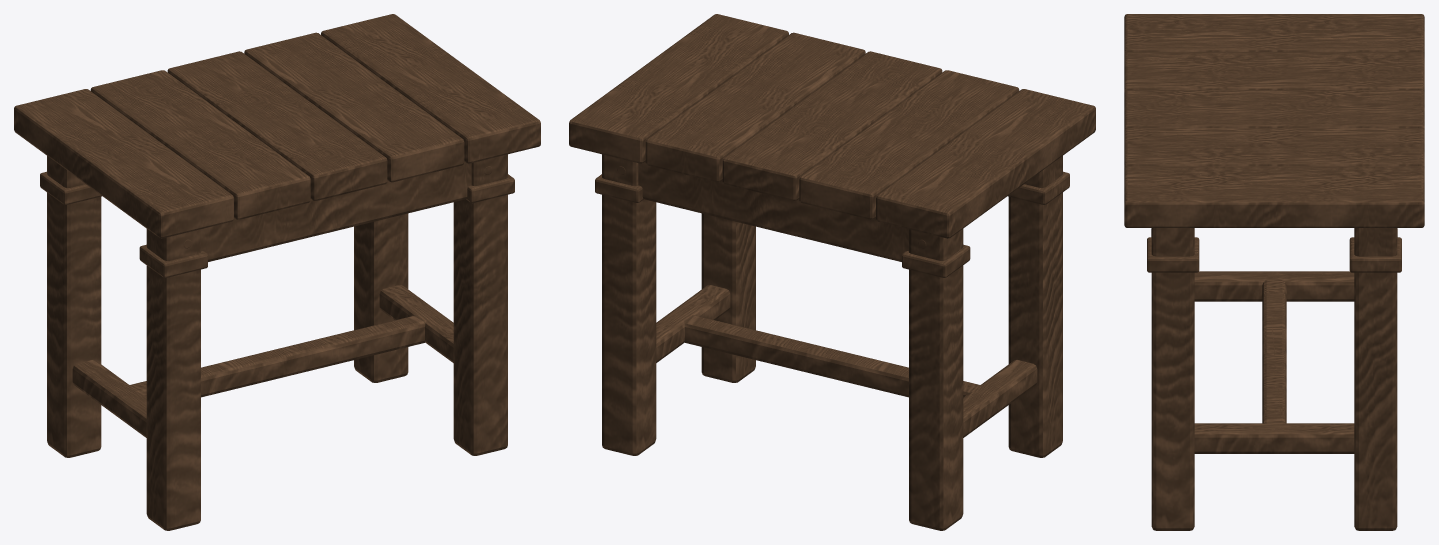
Rendered from ArchiveDesk.fbx.
3 renders of one model, left to right at view 1: azimuth 30°, elevation 25°; view 2: azimuth 150°, elevation 25°; view 3: azimuth 270°, elevation 25°, orthographic.
Parts seen in each view (by area): view 1: ArchiveDesk; view 2: ArchiveDesk; view 3: ArchiveDesk.
Boxes of the visible parts, x1,y1,x2,y2 form: ArchiveDesk: (14,14,540,530); ArchiveDesk: (569,14,1095,530); ArchiveDesk: (1124,14,1424,530).
Bounding box in the file's own units: 119 × 100 × 80.
1 material, 1 textured.
